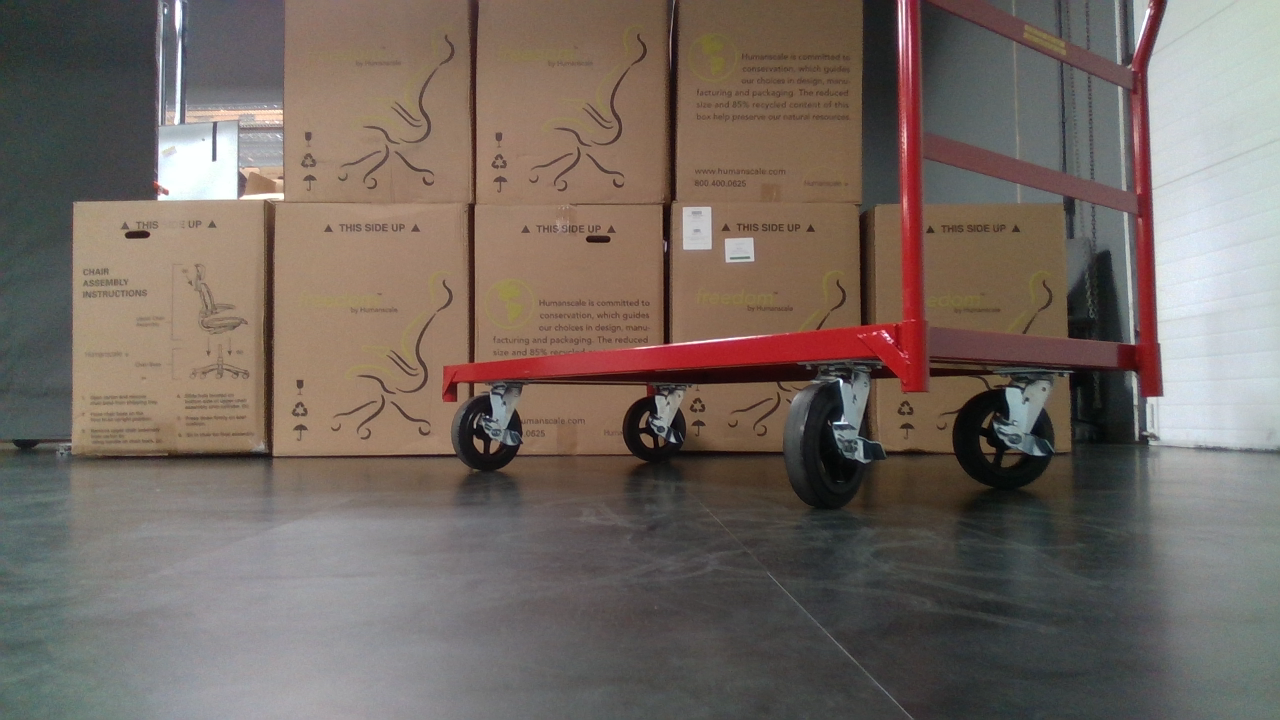Dolly: (438, 0, 1168, 508)
Wheel: (779, 377, 886, 510), (952, 385, 1059, 491), (449, 400, 521, 470), (623, 398, 691, 462)
